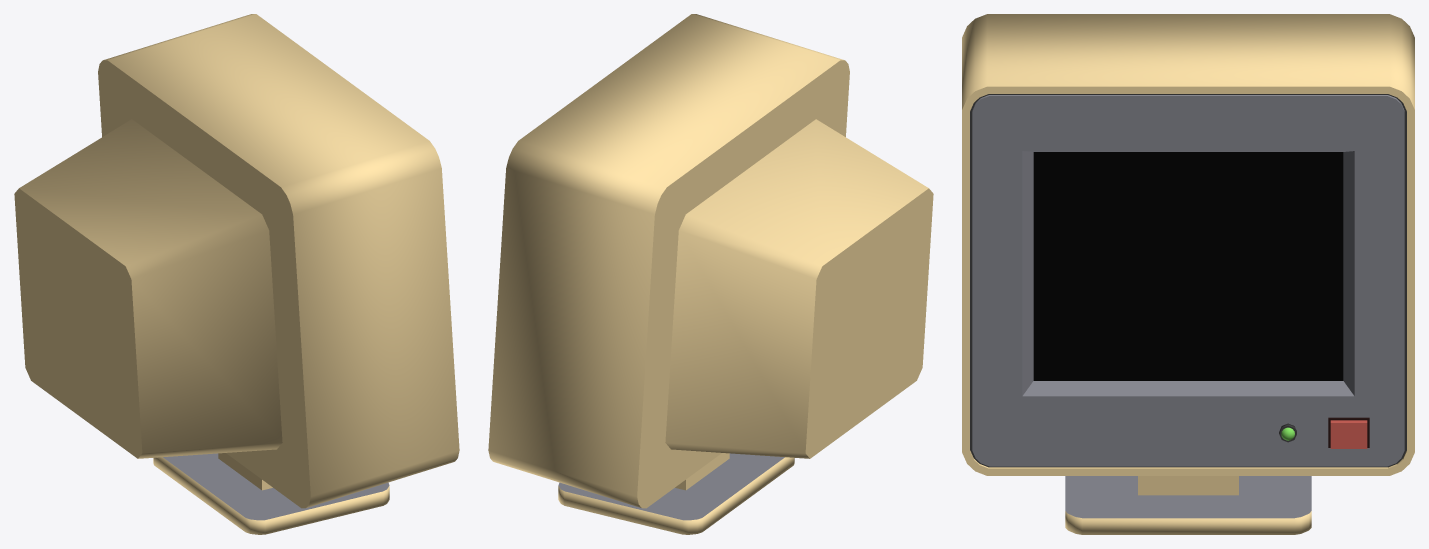
The model's file is Screen2.fbx.
3 renders of one model, left to right at view 1: azimuth 30°, elevation 25°; view 2: azimuth 150°, elevation 25°; view 3: azimuth 270°, elevation 25°, orthographic. The views are drawn at different scales.
Visible parts, largest first — view 1: Cube; view 2: Cube; view 3: Cube.
Part boxes in pixels (box(x1,y1,x2,y2)): Cube: box(14, 14, 459, 534); Cube: box(488, 14, 933, 534); Cube: box(962, 14, 1414, 534).
Size of the model in its own units: 190 by 237 by 217.
